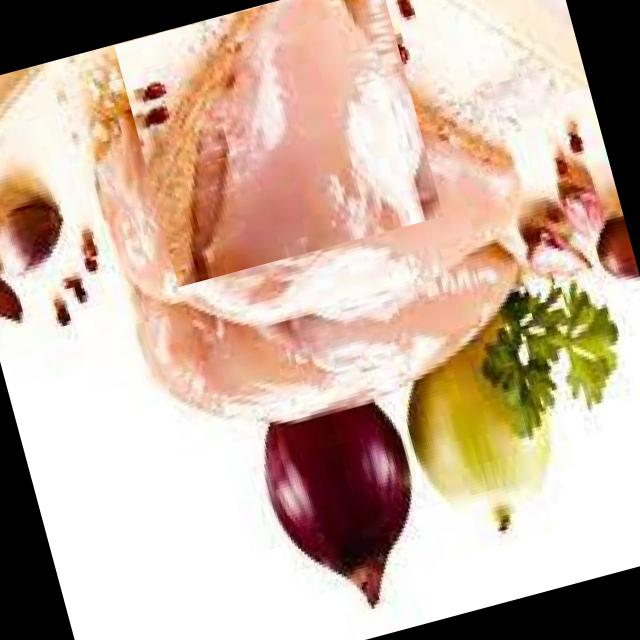chicken: (87, 0, 503, 403), (126, 200, 546, 472)
